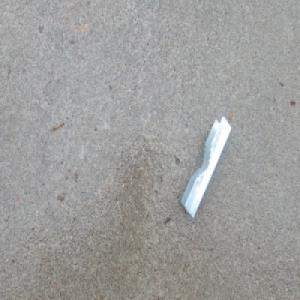ClampPart: (180, 116, 231, 217)
